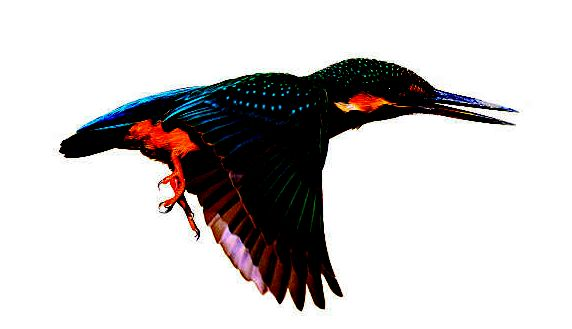Bird: (53, 56, 520, 312)
